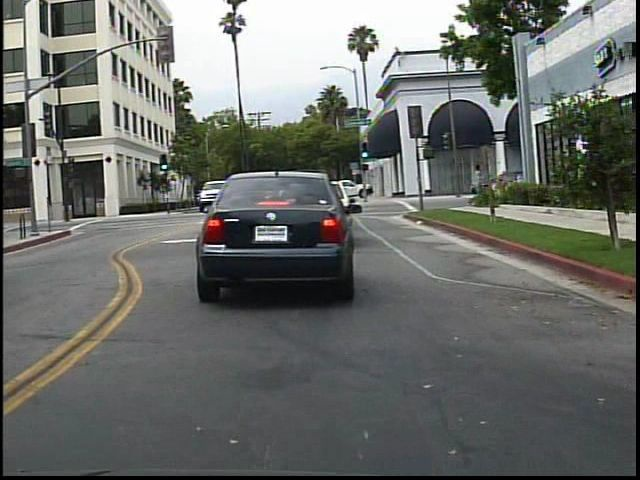person: (460, 159, 490, 208)
